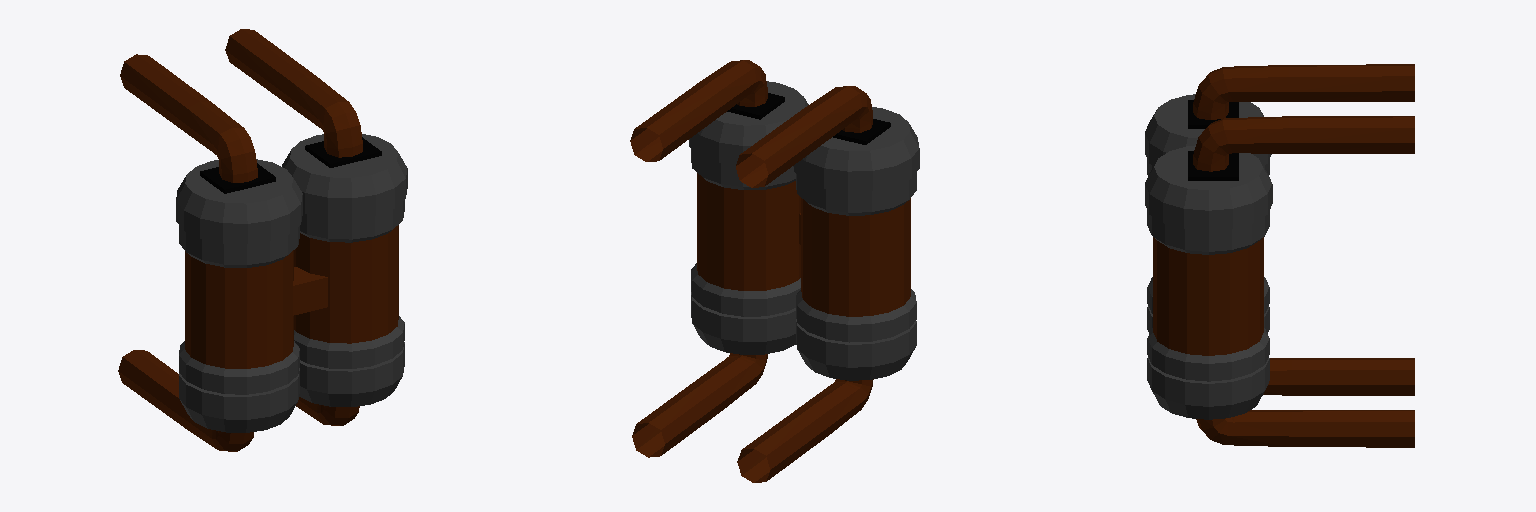
The model's file is Tank_Cylinder.obj.
The picture shows the model from 3 angles: view 1: azimuth 30°, elevation 25°; view 2: azimuth 150°, elevation 25°; view 3: azimuth 270°, elevation 25°; orthographic projection.
Visible parts, largest first — view 1: Tank_Cylinder.006; view 2: Tank_Cylinder.006; view 3: Tank_Cylinder.006.
Part boxes in pixels (x1,y1,x2,y2): Tank_Cylinder.006: (118, 29, 407, 451); Tank_Cylinder.006: (630, 60, 919, 482); Tank_Cylinder.006: (1145, 64, 1414, 447).
Size of the model in its own units: 0.569 by 0.831 by 0.619.